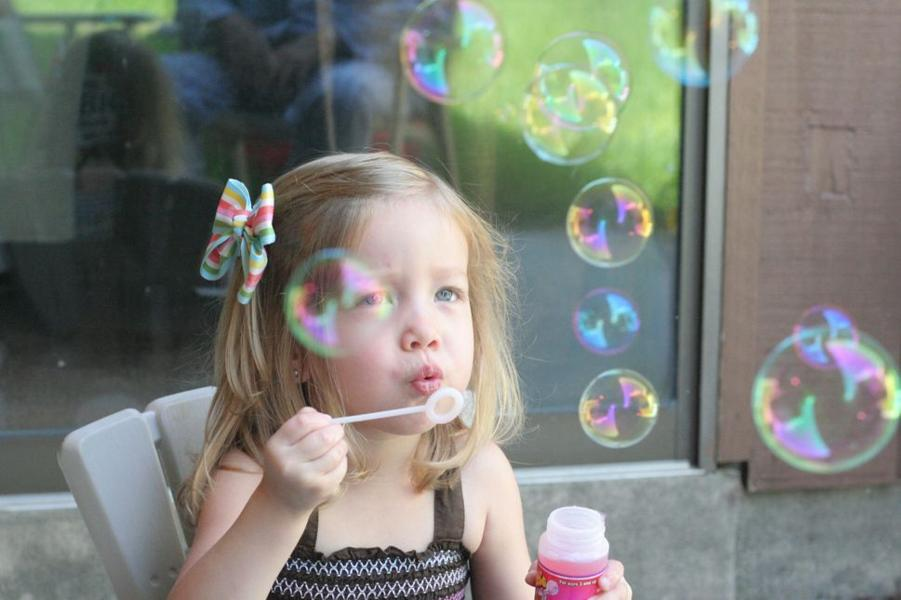person: (155, 153, 564, 600)
